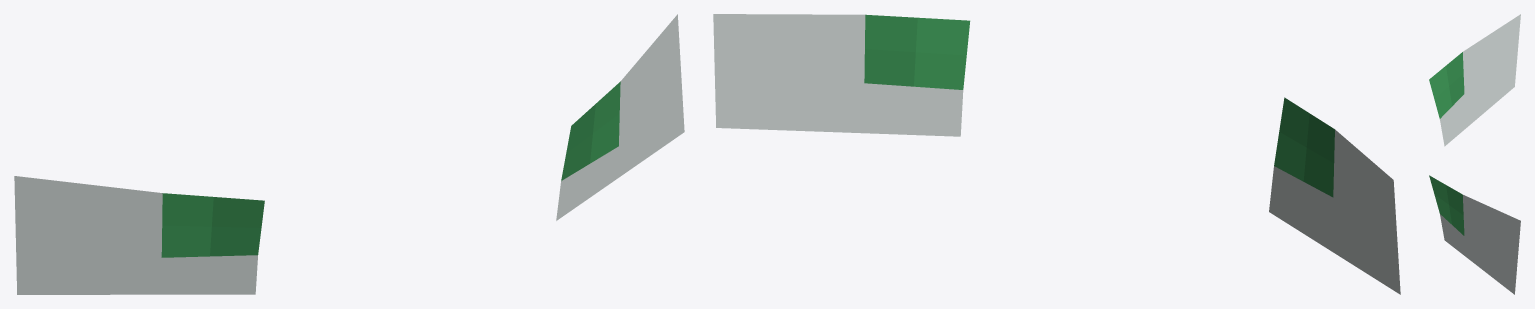
File: yeux_04.fbx
The picture shows the model from 3 angles, left to right: view 1: azimuth 30°, elevation 25°; view 2: azimuth 150°, elevation 25°; view 3: azimuth 270°, elevation 25°; orthographic projection. The views are drawn at different scales.
Parts seen in each view (by area): view 1: Cube.001; view 2: Cube.001; view 3: Cube.001.
Boxes of the visible parts, box(x1,y1,x2,y2) form: Cube.001: box(14, 14, 684, 294); Cube.001: box(713, 14, 1400, 294); Cube.001: box(1429, 14, 1520, 294).
Size of the model in its own units: 114 by 19.45 by 21.3.
